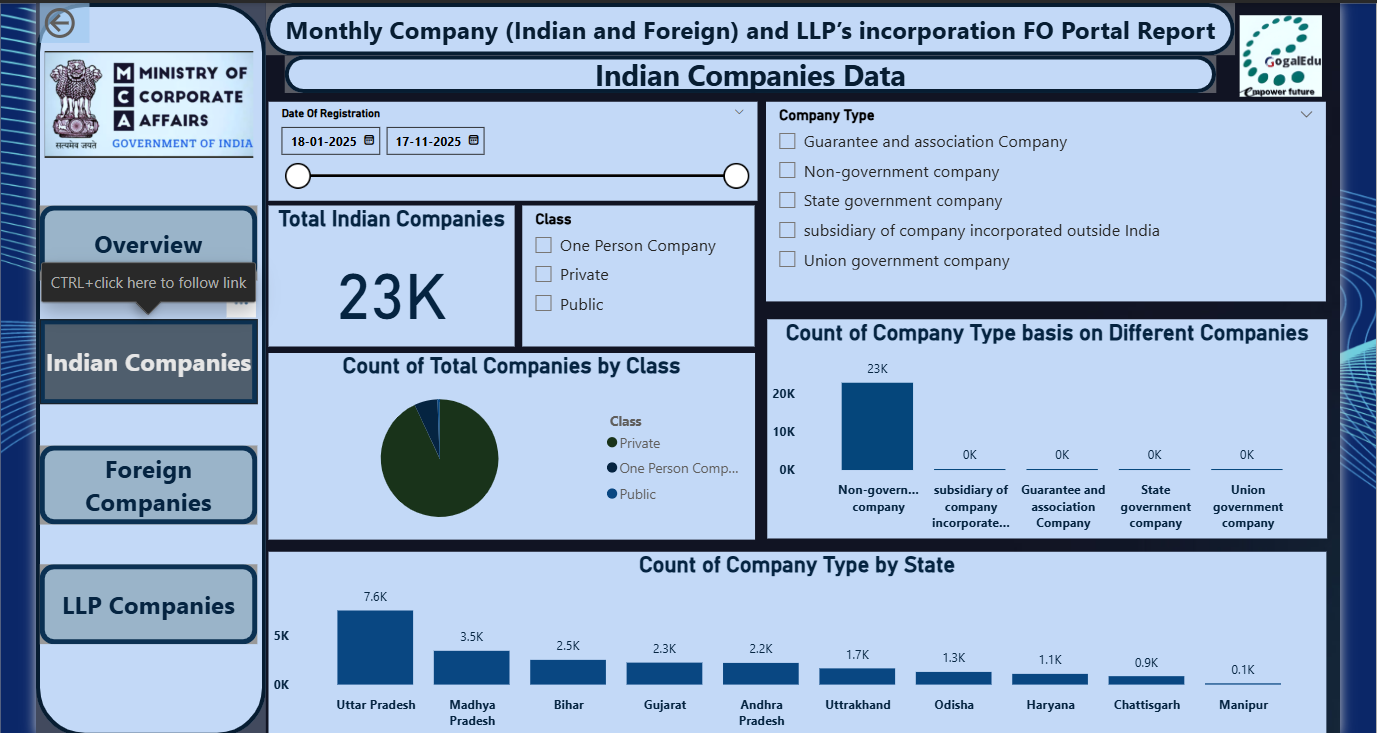

This screenshot's page, from the dashboard's own definition file:
{"tool":"powerbi","page":{"name":"Indian Companies","canvas":[1280,720],"ordinal":1},"visuals":[{"type":"shape","box":[0,0,225.8,720.2],"z":0},{"type":"shape","box":[244.2,51.5,914.1,36.8],"z":1000},{"type":"card","title":"Total Indian Companies","fields":{"Values":["Table 1 (Indian Companies).Total_Indian_Companies"]},"box":[228.2,198.8,236.8,121.5],"z":2000},{"type":"columnChart","title":"Count of Company Type basis on Different Companies","fields":{"Category":["Table 1 (Indian Companies). Company Type"],"Y":["CountNonNull(Table 1 (Indian Companies). Company Name)"]},"box":[717.8,278.5,549.7,204.9],"z":3000},{"type":"pieChart","title":"Count of Total Companies by Class","fields":{"Category":["Table 1 (Indian Companies). Class"],"Y":["CountNonNull(Table 1 (Indian Companies). Company Name)"]},"box":[225.8,328.8,479.8,154.6],"z":4000},{"type":"slicer","fields":{"Values":["Table 1 (Indian Companies). Date Of Registration"]},"box":[228.2,88.3,479.8,105.5],"z":5000},{"type":"slicer","fields":{"Values":["Table 1 (Indian Companies). Company Type"]},"box":[716.6,88.3,549.7,184.1],"z":6000},{"type":"slicer","fields":{"Values":["Table 1 (Indian Companies). Class"]},"box":[468.7,198.8,236.8,121.5],"z":7000},{"type":"actionButton","box":[3.7,0,49.1,39.3],"z":8000},{"type":"columnChart","fields":{"Category":["Table 1 (Indian Companies).State"],"Y":["CountNonNull(Table 1 (Indian Companies). Company Type)"]},"box":[228.2,494.5,479.8,213.5],"z":9000},{"type":"image","box":[3.7,0,214.7,198.8],"z":10000},{"type":"actionButton","box":[3.7,198.8,213.5,73.6],"z":11000},{"type":"actionButton","box":[3.7,310.4,213.5,83.4],"z":12000},{"type":"actionButton","box":[3.7,550.9,213.5,78.5],"z":13000},{"type":"actionButton","box":[3.7,434.4,213.5,77.3],"z":14000},{"type":"shape","box":[225.8,0,950.9,51.5],"z":15000},{"type":"image","box":[1176.7,0,89.6,88.3],"z":16000},{"type":"columnChart","title":"Comparison by Months","fields":{"Category":["Table 1 (Indian Companies). Date Of Registration.Variation.Date Hierarchy.Month"],"Y":["Table 1 (Indian Companies).Total_Indian_Companies"]},"box":[717.8,494.5,549.7,213.5],"z":17000}]}

Visuals, with their boxes on the page's 1280x720 design canvas (x1, y1, x2, y2). These are canvas units, not pixel positions in the 1377x733 screenshot, which may show the page scaled, cropped or inside an application window:
shape: box(0, 0, 226, 720)
shape: box(244, 52, 1158, 88)
"Total Indian Companies" card: box(228, 199, 465, 320)
"Count of Company Type basis on Different Companies" columnChart: box(718, 278, 1268, 483)
"Count of Total Companies by Class" pieChart: box(226, 329, 706, 483)
slicer - Table 1 (Indian Companies). Date Of Registration: box(228, 88, 708, 194)
slicer - Table 1 (Indian Companies). Company Type: box(717, 88, 1266, 272)
slicer - Table 1 (Indian Companies). Class: box(469, 199, 706, 320)
actionButton: box(4, 0, 53, 39)
columnChart - Table 1 (Indian Companies).State x CountNonNull(Table 1 (Indian Companies). Company Type): box(228, 494, 708, 708)
image: box(4, 0, 218, 199)
actionButton: box(4, 199, 217, 272)
actionButton: box(4, 310, 217, 394)
actionButton: box(4, 551, 217, 629)
actionButton: box(4, 434, 217, 512)
shape: box(226, 0, 1177, 52)
image: box(1177, 0, 1266, 88)
"Comparison by Months" columnChart: box(718, 494, 1268, 708)
